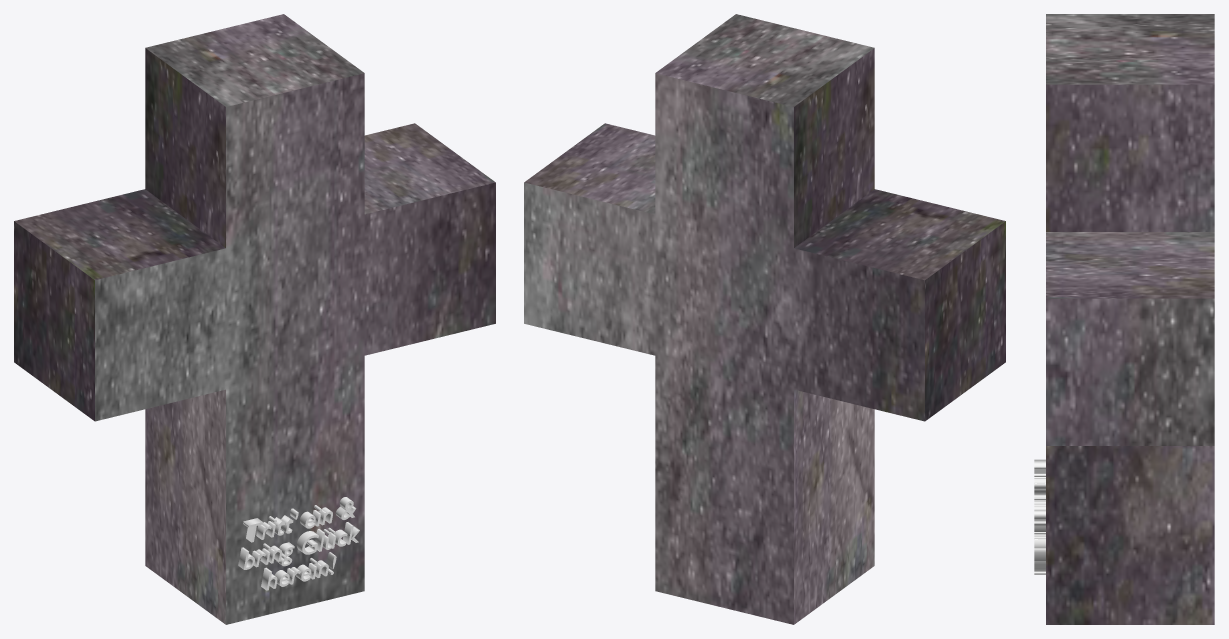
File: gipfelkreuz.glb
The picture shows the model from 3 angles, left to right: view 1: azimuth 30°, elevation 25°; view 2: azimuth 150°, elevation 25°; view 3: azimuth 270°, elevation 25°; orthographic projection. The views are drawn at different scales.
Parts seen in each view (by area): view 1: videotarget.002, Text; view 2: videotarget.002; view 3: videotarget.002, Text.
Part boxes in pixels (bbox=[...]): videotarget.002: bbox=[14, 14, 495, 624]; Text: bbox=[238, 497, 359, 590]; videotarget.002: bbox=[524, 14, 1005, 624]; videotarget.002: bbox=[1046, 14, 1214, 624]; Text: bbox=[1034, 459, 1045, 574].
Bounding box in the file's own units: 7.31 × 9.02 × 2.73.
3 materials, 2 textured.
